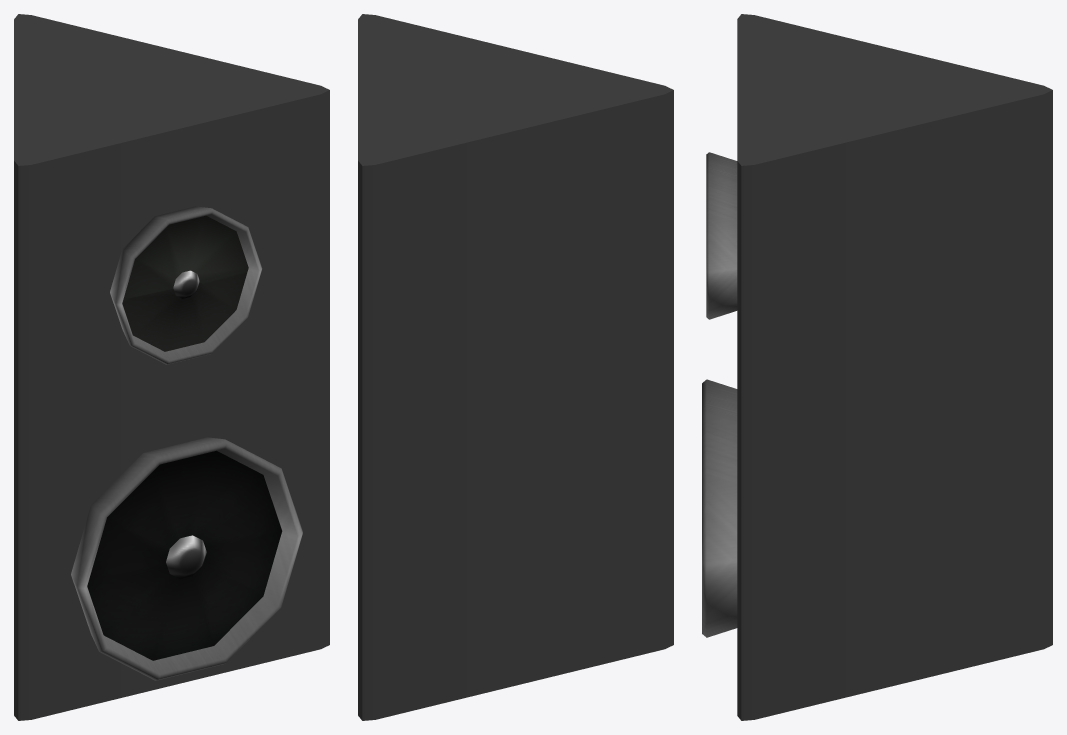
File: Speaker_Small.FBX
The picture shows the model from 3 angles, left to right: view 1: azimuth 30°, elevation 25°; view 2: azimuth 150°, elevation 25°; view 3: azimuth 270°, elevation 25°; orthographic projection.
Visible parts, largest first — view 1: Speaker_Small; view 2: Speaker_Small; view 3: Speaker_Small.
Boxes of the visible parts, x1,y1,x2,y2 form: Speaker_Small: (14,14,329,720); Speaker_Small: (358,14,673,720); Speaker_Small: (702,14,1052,720).
Bounding box in the file's own units: 29.96 × 51.02 × 29.23.
